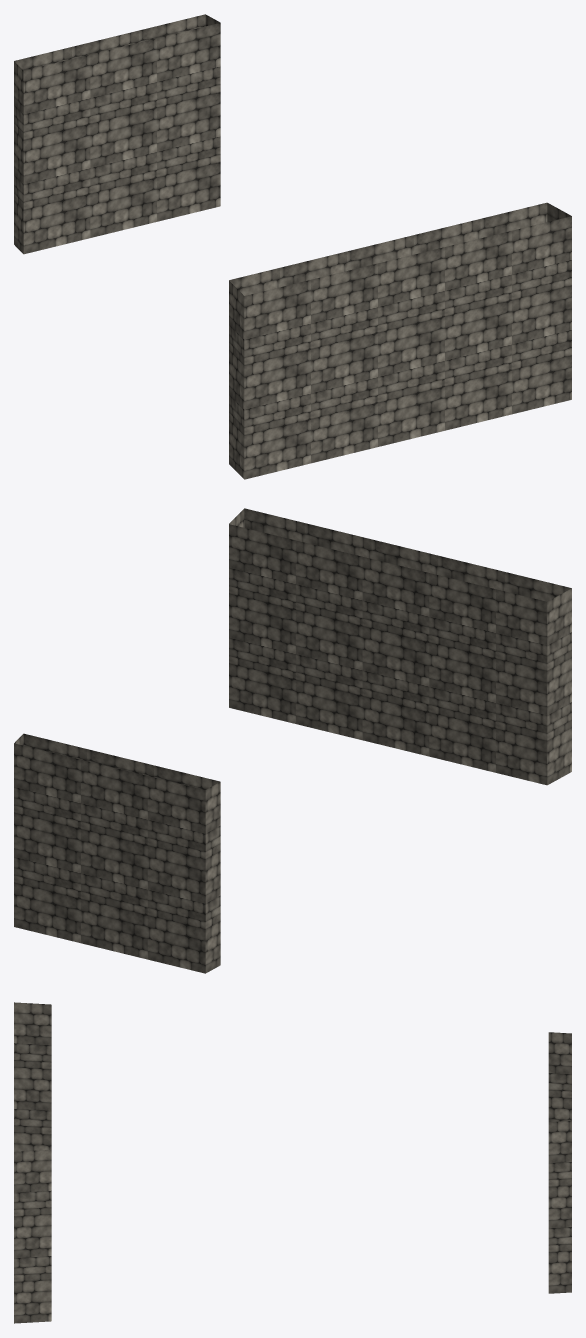
The model's file is Arena_Foundation_1_LOD2.gltf.
3 views of the same model, one above another, from view 1: azimuth 30°, elevation 25°; view 2: azimuth 150°, elevation 25°; view 3: azimuth 270°, elevation 25° (orthographic). The views are drawn at different scales.
Parts seen in each view (by area): view 1: Arena_Foundation_1_LOD2; view 2: Arena_Foundation_1_LOD2; view 3: Arena_Foundation_1_LOD2.
Part boxes in pixels (box(x1,y1,x2,y2)): Arena_Foundation_1_LOD2: box(14, 14, 571, 479); Arena_Foundation_1_LOD2: box(14, 508, 571, 973); Arena_Foundation_1_LOD2: box(14, 1002, 571, 1323).
Size of the model in its own units: 9.8 by 5.25 by 15.47.
1 material, 1 textured.
